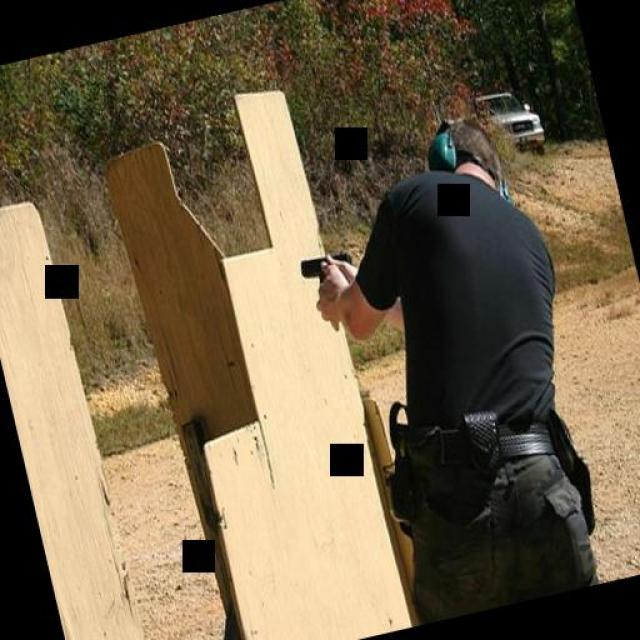gun: (296, 246, 358, 298)
